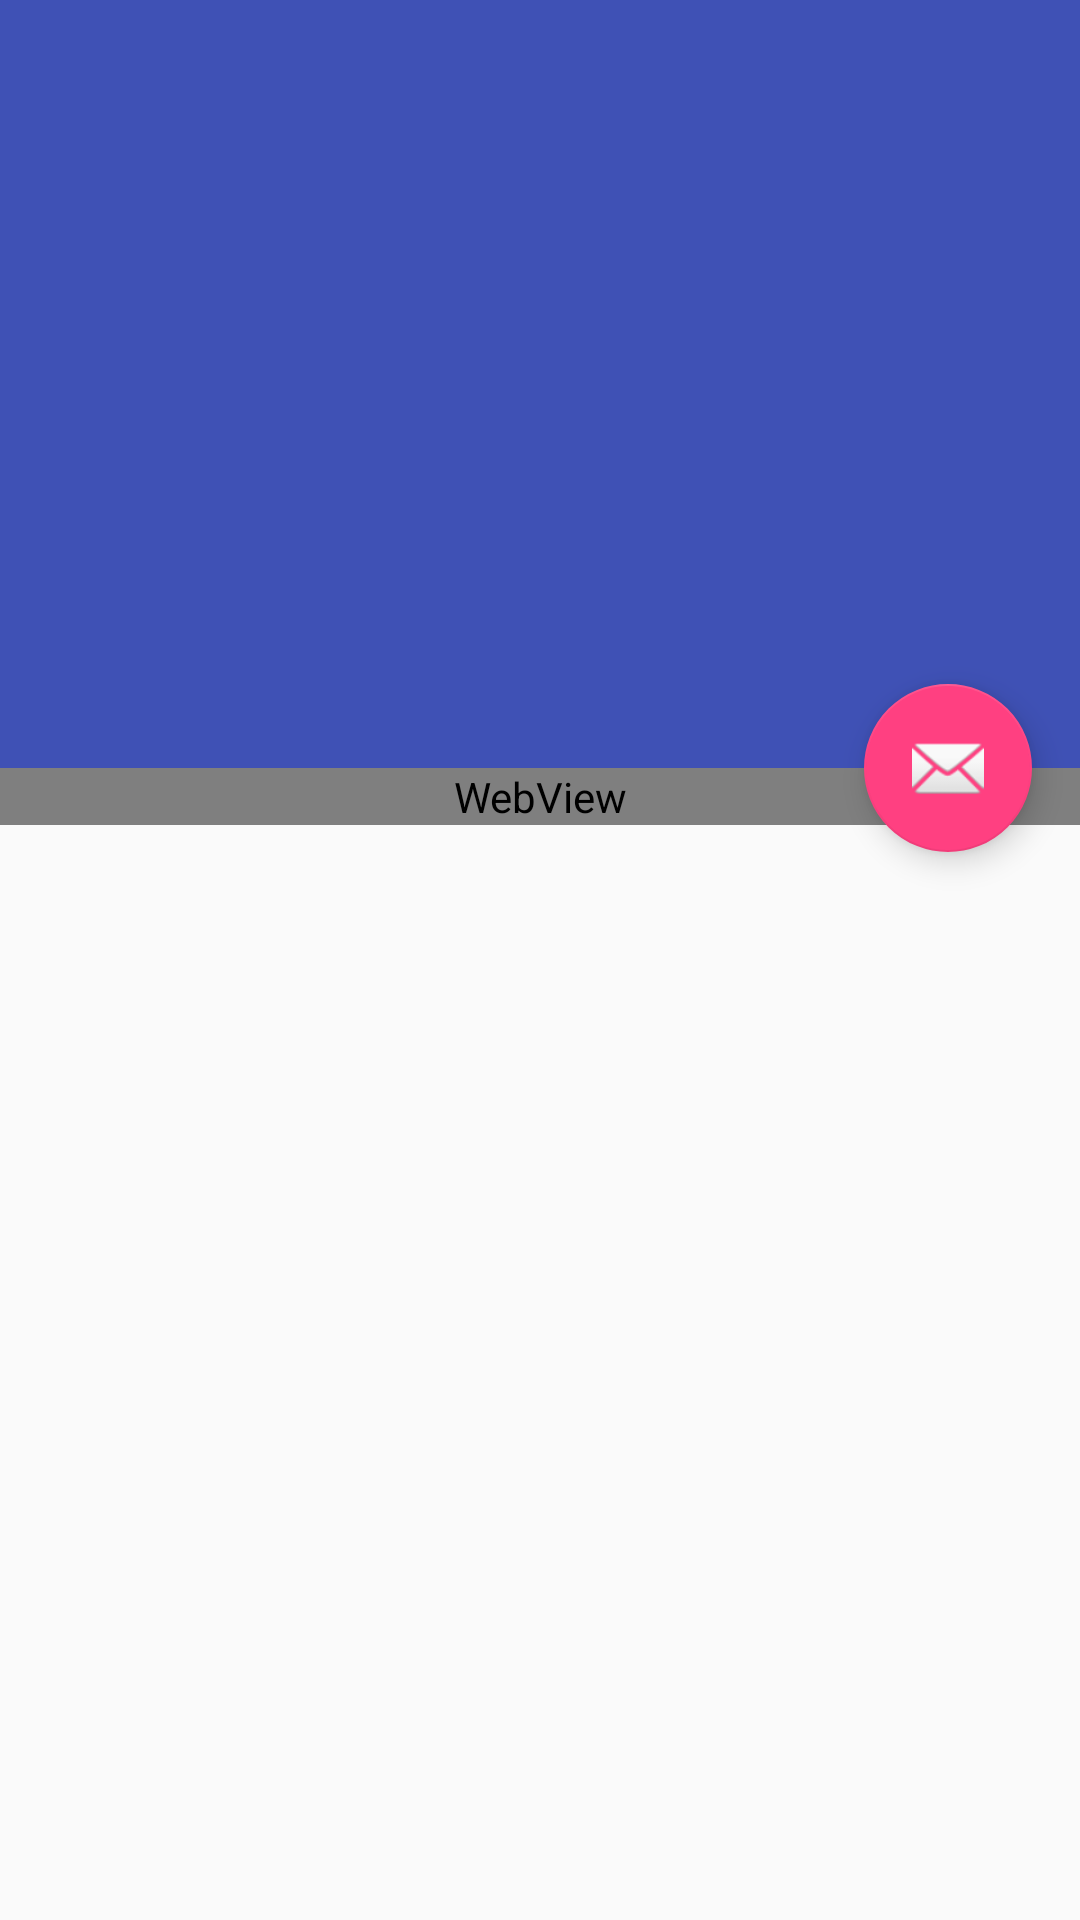

Named icons in this screenshot (1080 × 1920) and their centers, (x=x, y=y):
email: (x=948, y=768)
